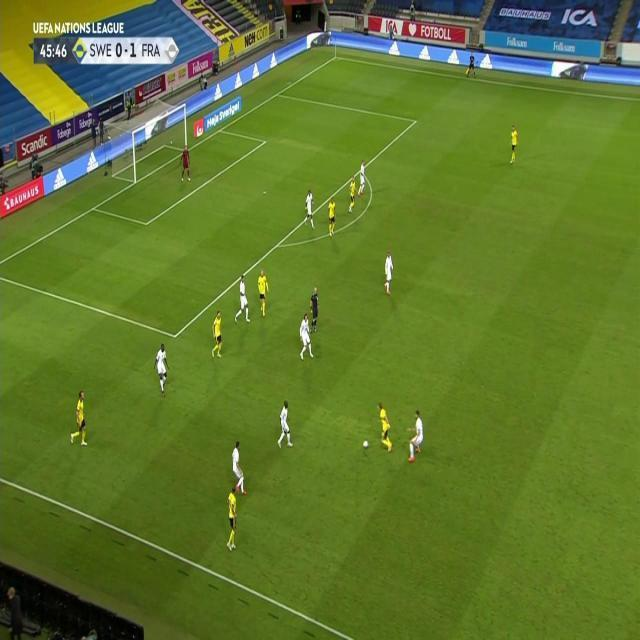ball: (362, 440, 370, 450)
goalkeeper: (181, 144, 192, 182)
player: (70, 390, 90, 450), (406, 409, 425, 463), (375, 402, 393, 454), (153, 343, 170, 398), (227, 485, 240, 553), (231, 442, 247, 497), (235, 275, 251, 326), (278, 399, 294, 448), (298, 314, 315, 360), (256, 269, 271, 318), (303, 189, 317, 232), (383, 250, 396, 296), (212, 311, 224, 360), (326, 197, 337, 240), (509, 124, 520, 166), (347, 176, 358, 215), (358, 159, 366, 197)
referee: (310, 285, 321, 331), (465, 52, 477, 80)
